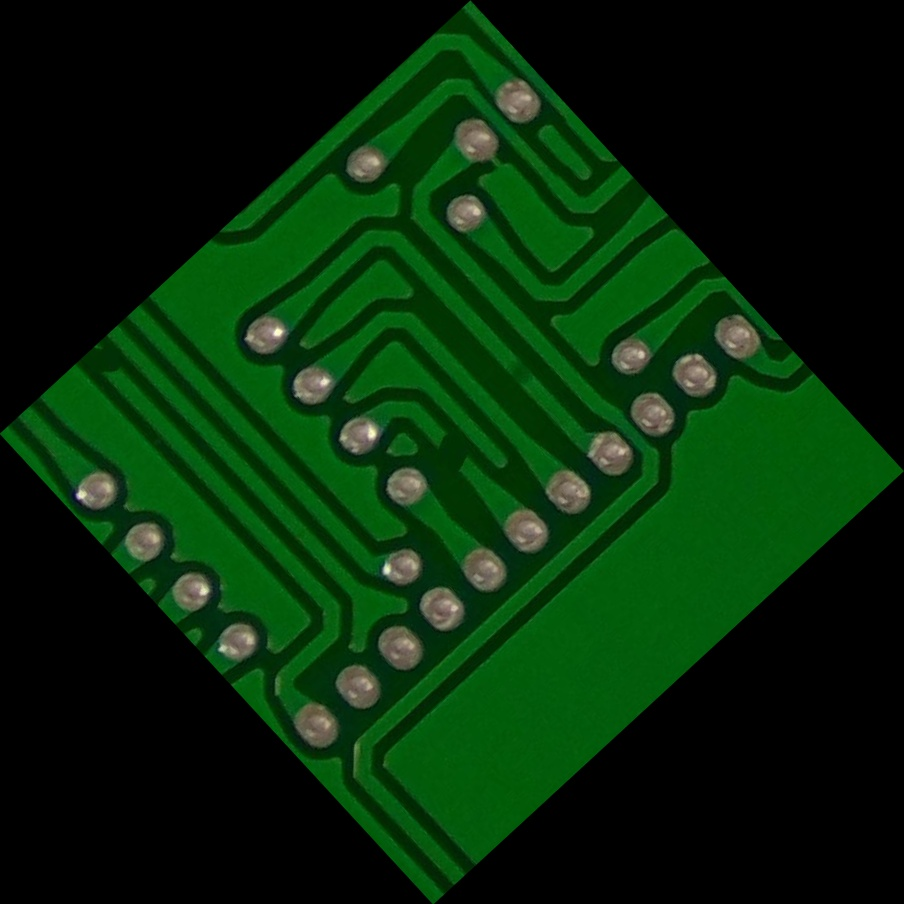open_circuit: (421, 421, 483, 483)
